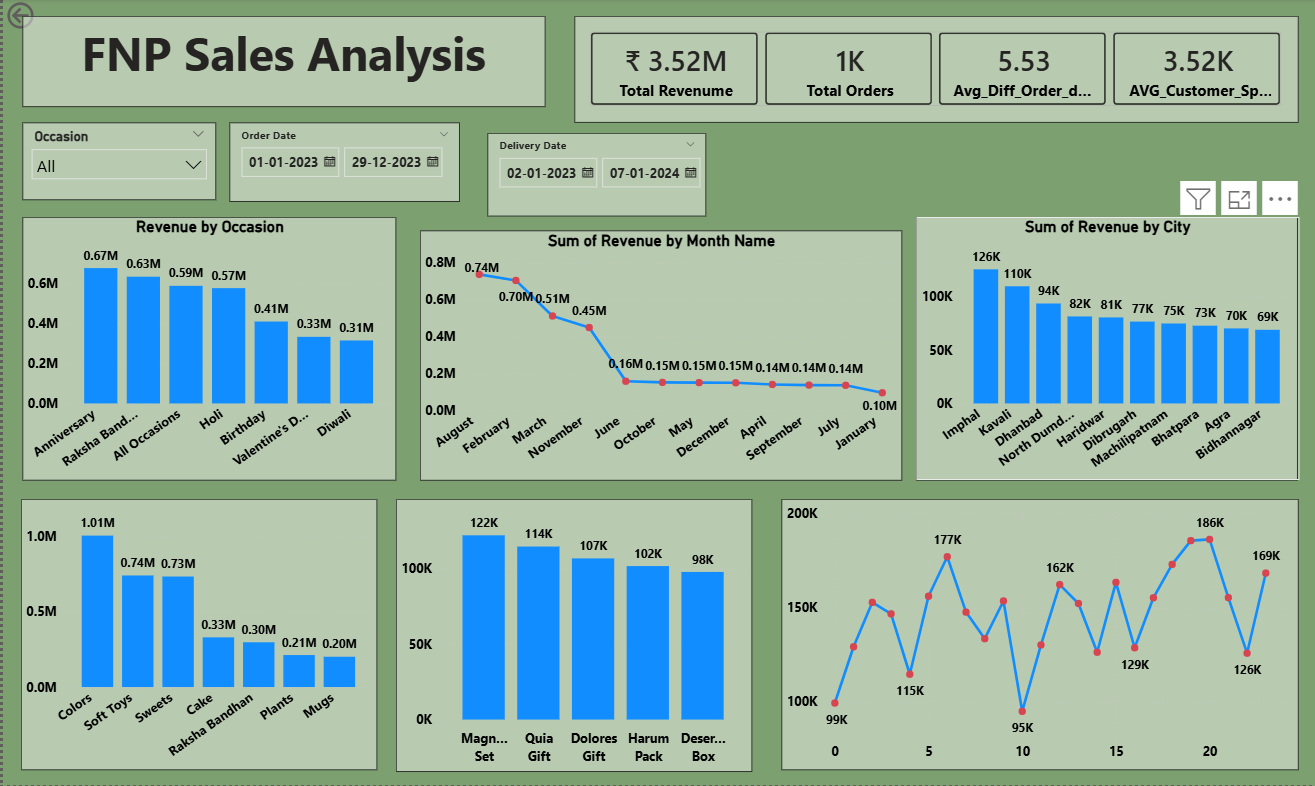

What the dashboard file says about the page in this screenshot:
{"tool":"powerbi","page":{"name":"Page 1","canvas":[1500,900],"ordinal":0},"visuals":[{"type":"columnChart","title":"Revenue by Occasion","fields":{"Y":["Sum(orders3.Revenue)"],"Category":["orders3.Occasion"]},"box":[22.1,250.2,427.4,301.2],"z":0},{"type":"columnChart","title":"Revenue by Category","fields":{"Y":["Sum(orders3.Revenue)"],"Category":["products4.Category"]},"box":[19.9,573.6,407.5,310],"z":1000},{"type":"lineChart","fields":{"Category":["orders3.Month Name"],"Y":["Sum(orders3.Revenue)"]},"box":[476.1,265.8,551.4,285.7],"z":2000},{"type":"columnChart","fields":{"Category":["products4.Product_Name"],"Y":["Sum(orders3.Revenue)"]},"box":[449.6,573.6,407.5,312.3],"z":3000},{"type":"columnChart","fields":{"Category":["customer2.City"],"Y":["Sum(orders3.Revenue)"]},"box":[1045.3,250.2,436.3,301.2],"z":4000},{"type":"lineChart","fields":{"Category":["orders3.Hour (Order Time)"],"Y":["Sum(orders3.Revenue)"]},"box":[890.3,573.6,591.3,310],"z":5000},{"type":"slicer","fields":{"Values":["orders3.Occasion"]},"box":[22.1,141.7,221.5,88.6],"z":6000},{"type":"slicer","fields":{"Values":["orders3.Order_Date"]},"box":[259.1,141.7,263.5,90.8],"z":7000},{"type":"actionButton","box":[0,0,100,40],"z":8000},{"type":"cardVisual","fields":{"Data":["orders3.Total Revenume","orders3.Total Orders","orders3.Avg_Diff_Order_delivery","orders3.AVG_Customer_Spending"]},"box":[653.3,19.9,828.3,121.8],"z":9000},{"type":"textbox","box":[22.1,19.9,597.9,104.1],"z":10000},{"type":"slicer","fields":{"Values":["orders3.Delivery_Date"]},"box":[553.6,155,250.2,95.2],"z":11000}]}

Visuals, with their boxes in screenshot pixels (x1, y1, x2, y2), scaled from the page's 1500x900 canvas onto the 1315x786 screenshot:
"Revenue by Occasion" columnChart: [19,219,394,482]
"Revenue by Category" columnChart: [17,501,375,772]
lineChart - orders3.Month Name x Sum(orders3.Revenue): [417,232,901,482]
columnChart - products4.Product_Name x Sum(orders3.Revenue): [394,501,751,774]
columnChart - customer2.City x Sum(orders3.Revenue): [916,219,1299,482]
lineChart - orders3.Hour (Order Time) x Sum(orders3.Revenue): [780,501,1299,772]
slicer - orders3.Occasion: [19,124,214,201]
slicer - orders3.Order_Date: [227,124,458,203]
actionButton: [0,0,88,35]
cardVisual - orders3.Total Revenume x orders3.Total Orders: [573,17,1299,124]
textbox: [19,17,544,108]
slicer - orders3.Delivery_Date: [485,135,705,219]
